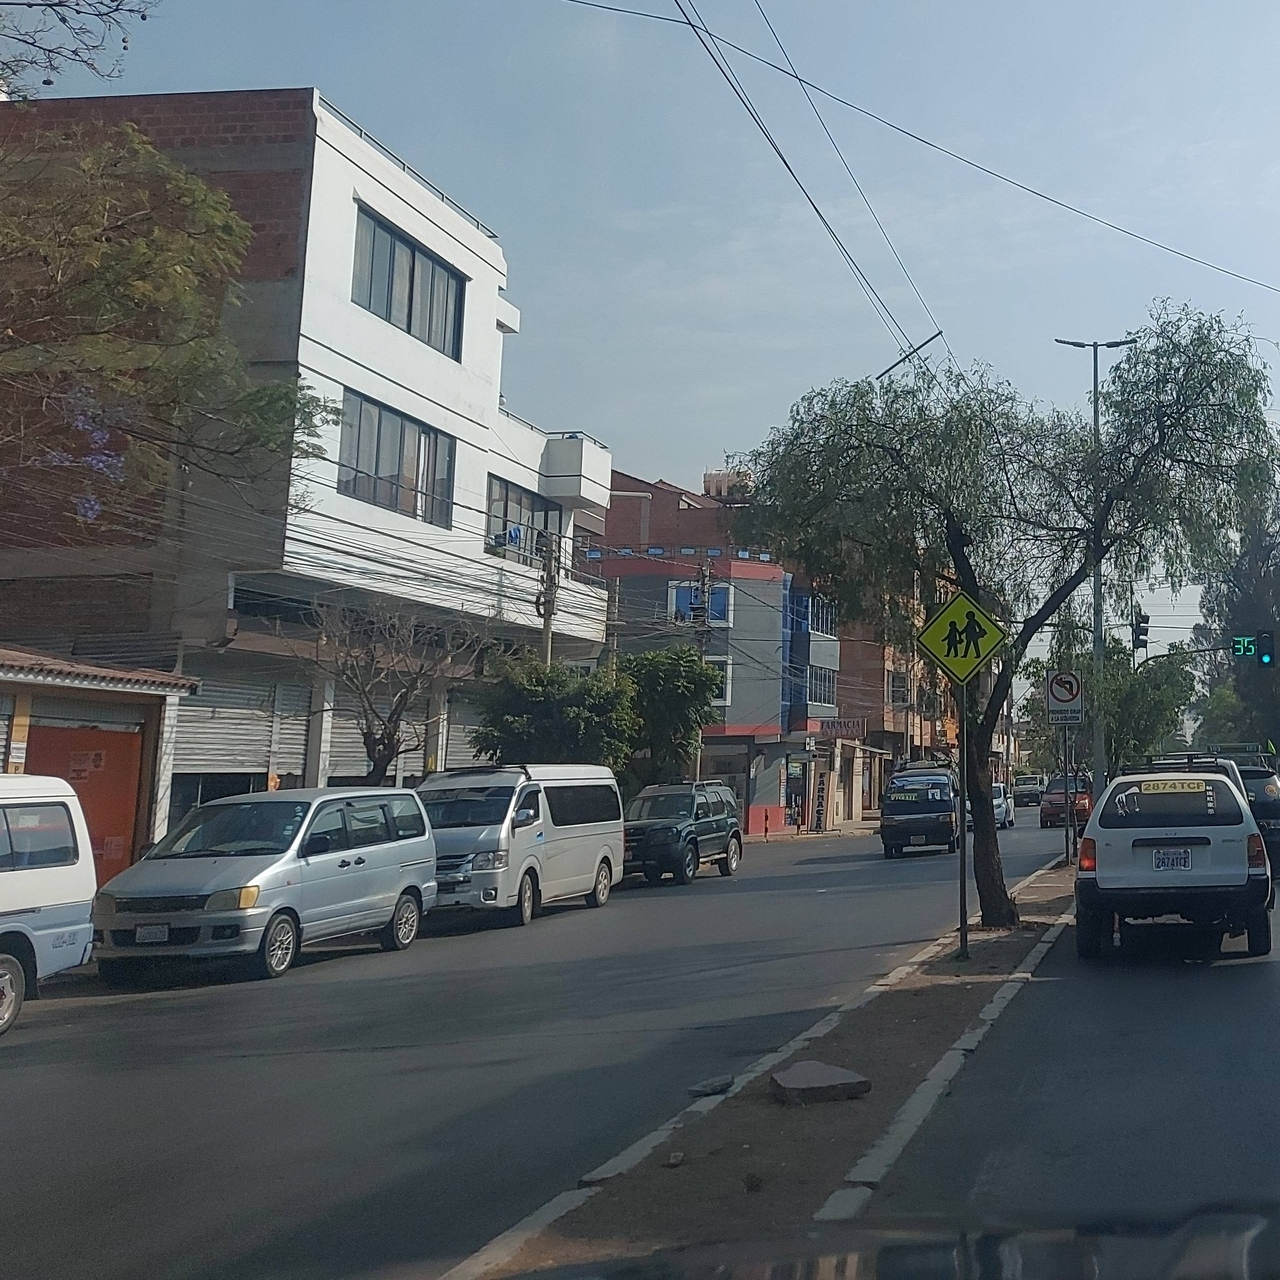prohibido-girar-izquierda: (1048, 667, 1082, 724)
zona-escolar: (914, 592, 1006, 687)
